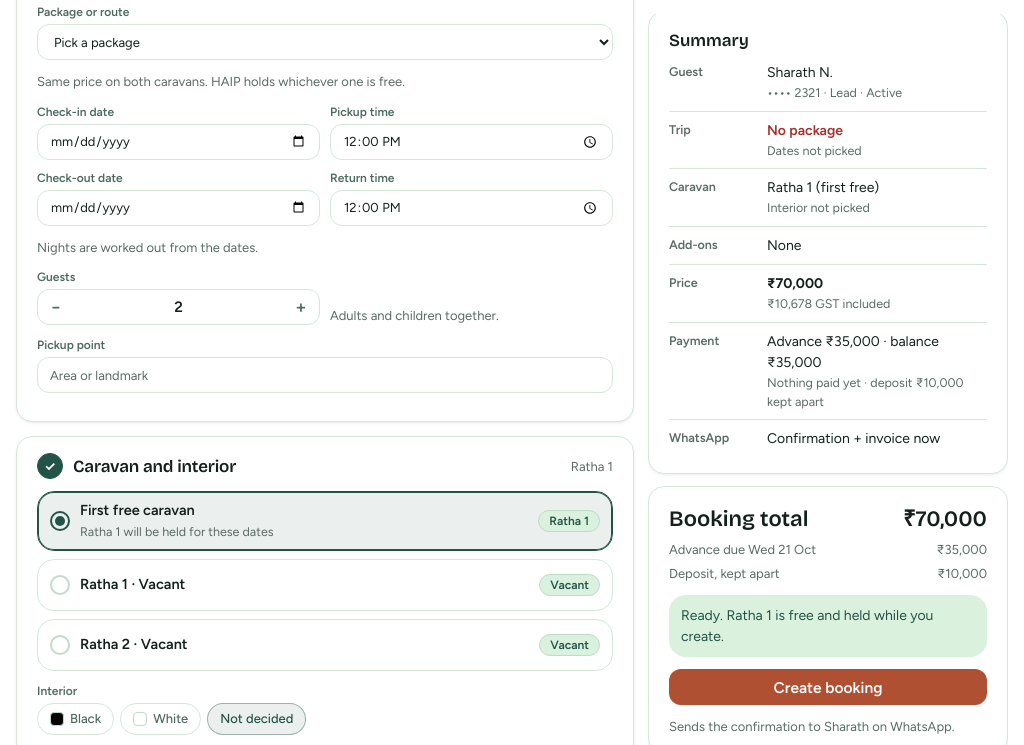
Scenario: refusals are always shown › a 422 lists the problems and flags their section
(page scrolled)
Click the button "Create booking": {"x": 828, "y": 687} 669,669 -> 987,705
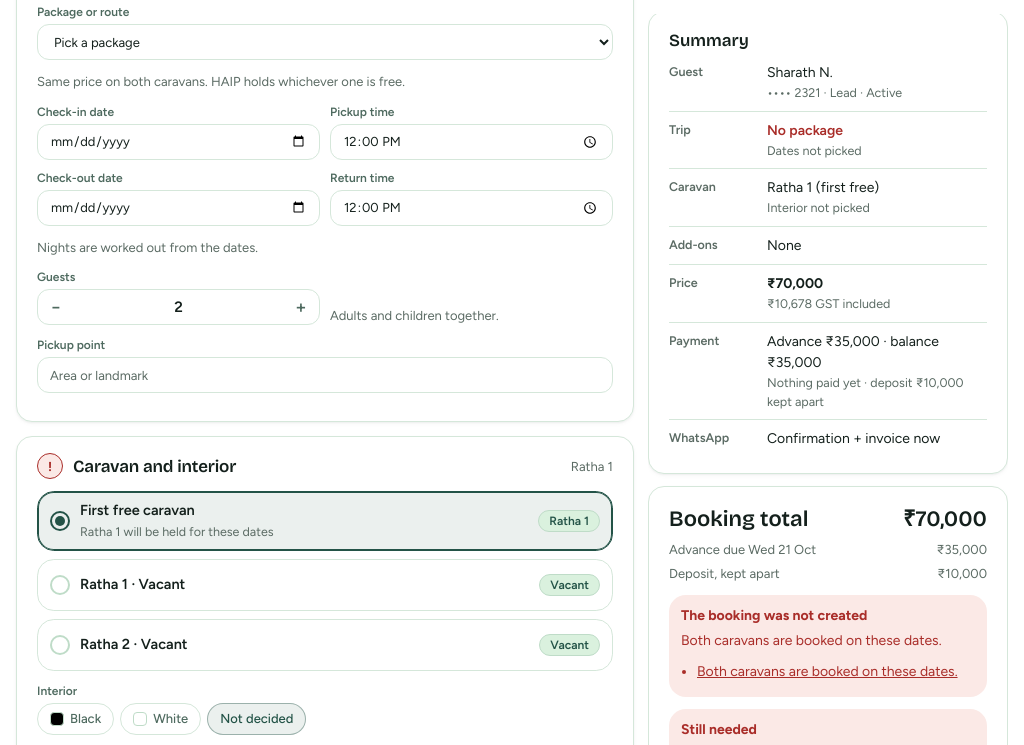
Expected: the button "Both caravans are booked on these dates." below "The booking was not created" is shown, 697,655 -> 958,687
Expected: the text with test id "mark-sec-veh" reads "!", 48,458 -> 52,474
